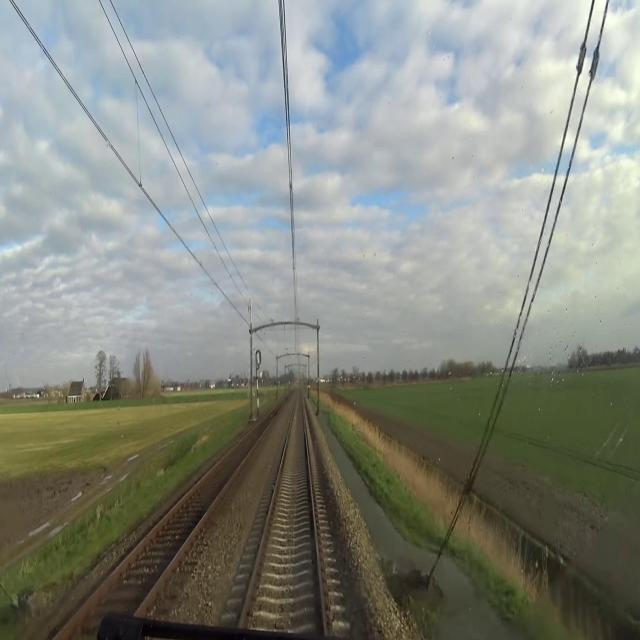rail-track: (58, 412, 274, 639), (245, 395, 323, 629)
